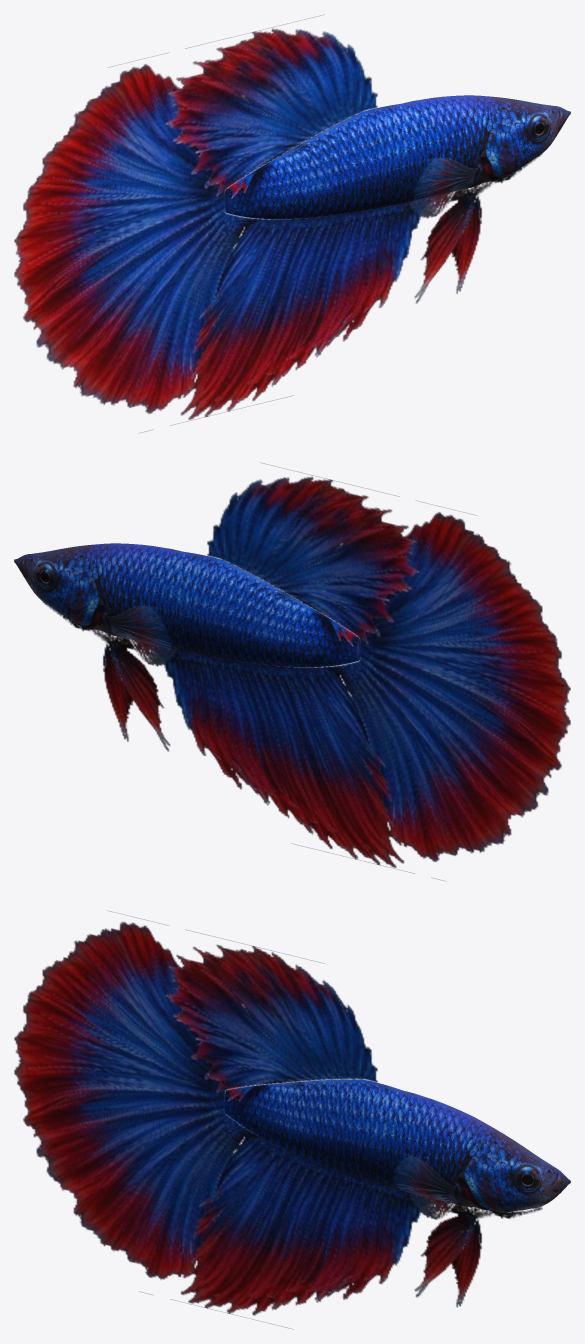
The model's file is species-betta.glb.
3 views of the same model, one above another, from view 1: azimuth 30°, elevation 25°; view 2: azimuth 150°, elevation 25°; view 3: azimuth 330°, elevation 25° (orthographic).
Parts seen in each view (by area): view 1: betta; view 2: betta; view 3: betta.
Part boxes in pixels (left/top/right/bottom): betta: left=14, top=14, right=570, bottom=432; betta: left=14, top=462, right=570, bottom=880; betta: left=14, top=910, right=570, bottom=1329.
Bounding box in the file's own units: 0.065 × 0.0417 × 0.00492.
1 material, 1 textured.
